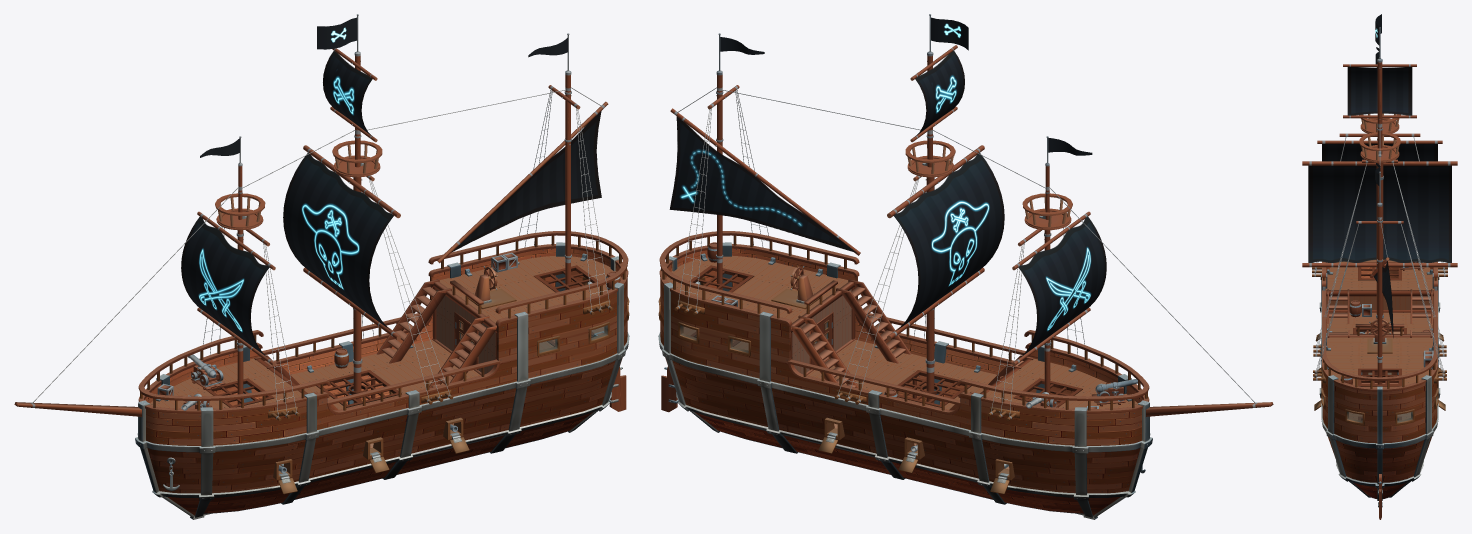
Rendered from stylized_pirate_ship.glb.
3 renders of one model, left to right at view 1: azimuth 30°, elevation 25°; view 2: azimuth 150°, elevation 25°; view 3: azimuth 270°, elevation 25°, orthographic. The views are drawn at different scales.
Parts seen in each view (by area): view 1: StylShip_Body_Mat_StylShip_ShipHull_0, StylShip_SailMid1, StylShip_SailFront, StylShip_SailBack, StylShip_FloorBackTop_Mat_StylShip_Decks_0, StylShip_FloorMid_Mat_StylShip_Decks_0, StylShip_MastMid, StylShip_FencingBack_Mat_StylShip_Elements_0, StylShip_StairsTop, StylShip_FencingFront_Mat_StylShip_Elements_0, StylShip_FencingMid_Mat_StylShip_Elements_0, StylShip_FloorFront_Mat_StylShip_Decks_0 (+14 smaller); view 2: StylShip_Body_Mat_StylShip_ShipHull_0, StylShip_SailMid1, StylShip_SailBack, StylShip_SailFront, StylShip_FloorBackTop_Mat_StylShip_Decks_0, StylShip_FloorMid_Mat_StylShip_Decks_0, StylShip_MastMid, StylShip_FencingBack_Mat_StylShip_Elements_0, StylShip_StairsTop, StylShip_FencingFront_Mat_StylShip_Elements_0, StylShip_FencingMid_Mat_StylShip_Elements_0, StylShip_FloorFront_Mat_StylShip_Decks_0 (+14 smaller); view 3: StylShip_SailMid1, StylShip_Body_Mat_StylShip_ShipHull_0, StylShip_MastMid, StylShip_FloorBackTop_Mat_StylShip_Decks_0, StylShip_FloorFront_Mat_StylShip_Decks_0, StylShip_SailMid2, StylShip_FencingBack_Mat_StylShip_Elements_0, StylShip_FloorMid_Mat_StylShip_Decks_0, StylShip_SailFront, StylShip_MastBack, StylShip_MastFront, StylShip_StairsSmall_Mat_StylShip_Elements_0 (+9 smaller).
Boxes of the visible parts, x1=… form: StylShip_Body_Mat_StylShip_ShipHull_0: x1=135, y1=242, x2=629, y2=519; StylShip_SailMid1: x1=283, y1=153, x2=393, y2=331; StylShip_SailFront: x1=181, y1=216, x2=269, y2=356; StylShip_SailBack: x1=451, y1=111, x2=601, y2=252; StylShip_FloorBackTop_Mat_StylShip_Decks_0: x1=439, y1=253, x2=621, y2=322; StylShip_FloorMid_Mat_StylShip_Decks_0: x1=291, y1=340, x2=480, y2=409; StylShip_MastMid: x1=303, y1=14, x2=400, y2=403; StylShip_FencingBack_Mat_StylShip_Elements_0: x1=428, y1=231, x2=628, y2=326; StylShip_StairsTop: x1=377, y1=279, x2=496, y2=388; StylShip_FencingFront_Mat_StylShip_Elements_0: x1=138, y1=330, x2=330, y2=413; StylShip_FencingMid_Mat_StylShip_Elements_0: x1=262, y1=313, x2=499, y2=414; StylShip_FloorFront_Mat_StylShip_Decks_0: x1=150, y1=358, x2=307, y2=408; StylShip_Body_Mat_StylShip_ShipHull_0: x1=658, y1=242, x2=1152, y2=519; StylShip_SailMid1: x1=894, y1=153, x2=1004, y2=332; StylShip_SailBack: x1=669, y1=116, x2=856, y2=252; StylShip_SailFront: x1=1018, y1=216, x2=1106, y2=357; StylShip_FloorBackTop_Mat_StylShip_Decks_0: x1=666, y1=253, x2=848, y2=322; StylShip_FloorMid_Mat_StylShip_Decks_0: x1=807, y1=340, x2=996, y2=409; StylShip_MastMid: x1=887, y1=14, x2=984, y2=403; StylShip_FencingBack_Mat_StylShip_Elements_0: x1=659, y1=231, x2=859, y2=326; StylShip_StairsTop: x1=791, y1=279, x2=910, y2=388; StylShip_FencingFront_Mat_StylShip_Elements_0: x1=957, y1=330, x2=1149, y2=413; StylShip_FencingMid_Mat_StylShip_Elements_0: x1=788, y1=313, x2=1025, y2=414; StylShip_FloorFront_Mat_StylShip_Decks_0: x1=980, y1=358, x2=1137, y2=408; StylShip_SailMid1: x1=1308, y1=165, x2=1451, y2=262; StylShip_Body_Mat_StylShip_ShipHull_0: x1=1319, y1=262, x2=1440, y2=500; StylShip_MastMid: x1=1302, y1=27, x2=1457, y2=321; StylShip_FloorBackTop_Mat_StylShip_Decks_0: x1=1326, y1=337, x2=1433, y2=387; StylShip_FloorFront_Mat_StylShip_Decks_0: x1=1325, y1=259, x2=1434, y2=312; StylShip_SailMid2: x1=1347, y1=67, x2=1412, y2=115; StylShip_FencingBack_Mat_StylShip_Elements_0: x1=1322, y1=317, x2=1437, y2=391; StylShip_FloorMid_Mat_StylShip_Decks_0: x1=1326, y1=312, x2=1433, y2=374; StylShip_SailFront: x1=1322, y1=144, x2=1437, y2=166; StylShip_MastBack: x1=1356, y1=171, x2=1403, y2=384; StylShip_MastFront: x1=1317, y1=58, x2=1442, y2=332; StylShip_StairsSmall_Mat_StylShip_Elements_0: x1=1327, y1=289, x2=1432, y2=323.
Size of what is drawn, in the model's own units: 9.34 by 6.79 by 2.48.
6 materials, 6 textured.
